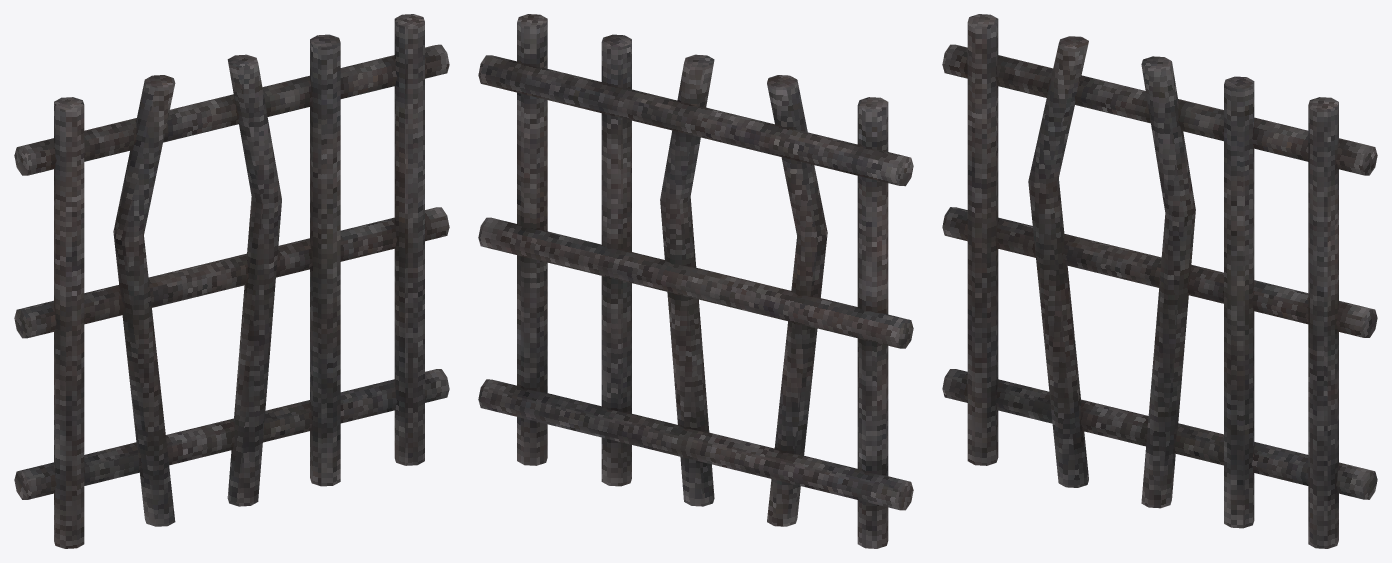
File: Iron_Bars_Broken.gltf
3 renders of one model, left to right at view 1: azimuth 30°, elevation 25°; view 2: azimuth 150°, elevation 25°; view 3: azimuth 330°, elevation 25°, orthographic.
Parts seen in each view (by area): view 1: Iron_Bars_Broken; view 2: Iron_Bars_Broken; view 3: Iron_Bars_Broken.
Boxes of the visible parts, x1=… form: Iron_Bars_Broken: x1=14, y1=14, x2=449, y2=548; Iron_Bars_Broken: x1=478, y1=14, x2=913, y2=548; Iron_Bars_Broken: x1=942, y1=14, x2=1377, y2=548.
Bounding box in the file's own units: 5.25 × 5.25 × 0.4969.
Materials: 1 (1 with a texture image).
